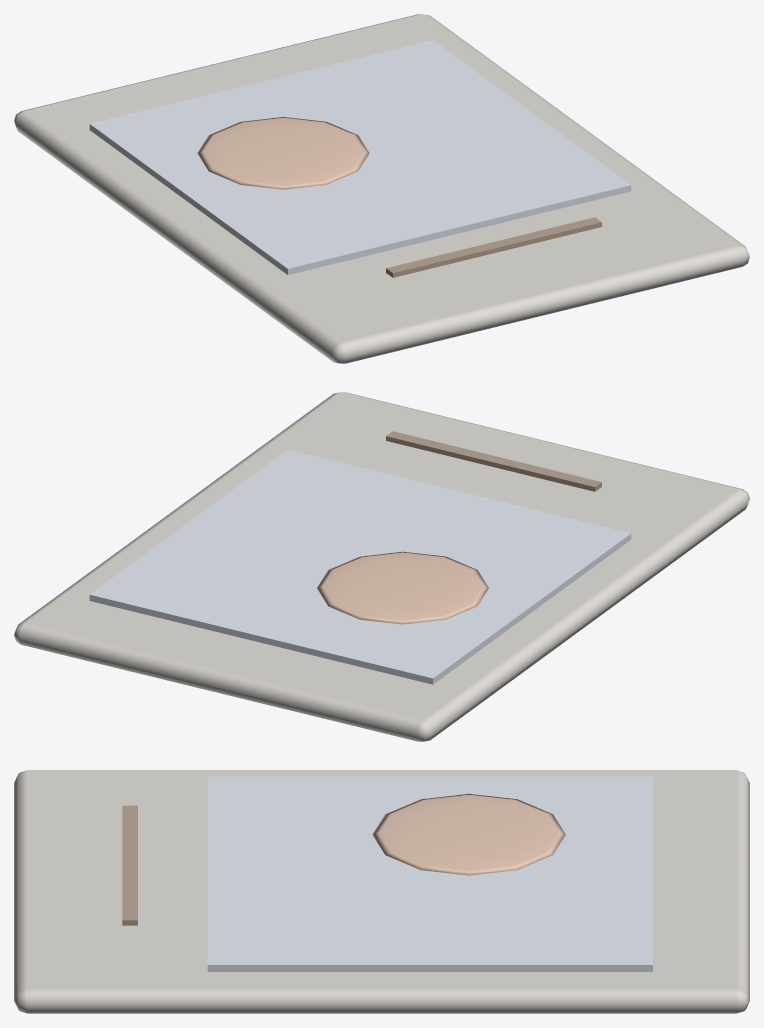
File: card.glb
3 renders of one model, top to bottom at view 1: azimuth 30°, elevation 25°; view 2: azimuth 150°, elevation 25°; view 3: azimuth 270°, elevation 25°, orthographic. The views are drawn at different scales.
Visible parts, largest first — view 1: card.material0, card.material1, card.material2, card.material3; view 2: card.material0, card.material1, card.material2, card.material3; view 3: card.material0, card.material1, card.material2, card.material3.
Boxes of the visible parts, box(x1,y1,x2,y2) form: card.material0: box(14, 14, 749, 363); card.material1: box(89, 40, 631, 274); card.material2: box(197, 117, 369, 189); card.material3: box(386, 217, 601, 277); card.material0: box(14, 392, 749, 741); card.material1: box(89, 449, 631, 684); card.material2: box(317, 551, 488, 624); card.material3: box(386, 431, 601, 491); card.material0: box(14, 770, 749, 1013); card.material1: box(207, 776, 652, 971); card.material2: box(372, 793, 565, 875); card.material3: box(122, 805, 137, 925).
Size of the model in its own units: 0.28 by 0.0235 by 0.38.
